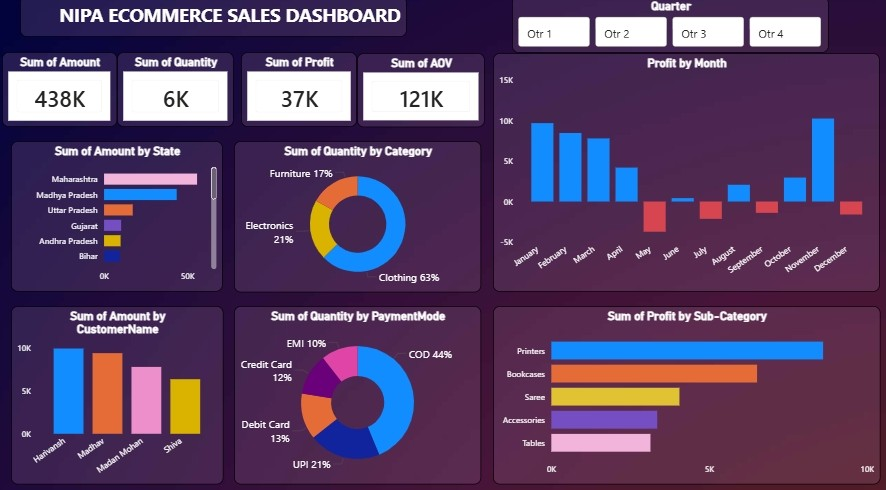

Layout of this report page (visuals, bound fields, positions):
{"tool":"powerbi","page":{"name":"Page 1","canvas":[1280,720],"ordinal":0},"visuals":[{"type":"textbox","box":[31.7,0,557.3,59],"z":0},{"type":"columnChart","title":"Profit by Month","fields":{"Y":["Sum(Details.Profit)"],"Category":["Orders.Order Date.Variation.Date Hierarchy.Month"]},"box":[712.8,82.1,557.3,344.2],"z":1000},{"type":"barChart","fields":{"Category":["Details.Sub-Category"],"Y":["Sum(Details.Profit)"]},"box":[712.2,446.8,557.7,257],"z":2000},{"type":"donutChart","fields":{"Category":["Details.Category"],"Y":["Sum(Details.Quantity)"]},"box":[339.3,208.3,356.1,218.4],"z":3000},{"type":"donutChart","fields":{"Category":["Details.PaymentMode"],"Y":["Sum(Details.Quantity)"]},"box":[339.3,446.8,356.1,257],"z":4000},{"type":"cardVisual","title":"Sum of Amount","fields":{"Data":["Sum(Details.Amount)"]},"box":[5.8,80.6,165.6,128.2],"z":5000},{"type":"cardVisual","title":"Sum of Quantity","fields":{"Data":["Sum(Details.Quantity)"]},"box":[171.4,80.6,168.5,128.2],"z":6000},{"type":"cardVisual","title":"Sum of Profit","fields":{"Data":["Sum(Details.Profit)"]},"box":[349.9,80.6,167,128.2],"z":7000},{"type":"cardVisual","title":"Sum of AOV","fields":{"Data":["Sum(Details.AOV)"]},"box":[528.5,82.1,167,126.7],"z":8000},{"type":"barChart","fields":{"Y":["Sum(Details.Amount)"],"Category":["Orders.State"]},"box":[18.7,208.8,305.3,217.4],"z":9000},{"type":"columnChart","fields":{"Category":["Orders.CustomerName"],"Y":["Sum(Details.Amount)"]},"box":[18.5,446.8,305.7,257],"z":10000},{"type":"advancedSlicerVisual","fields":{"Values":["Orders.Order Date.Variation.Date Hierarchy.Quarter"]},"box":[740.2,0,456.5,82.1],"z":11000}]}

Visuals, with their boxes in screenshot pixels (x1, y1, x2, y2), scaled from the page's 1280x720 canvas onto the 886x490 screenshot:
textbox: [22, 0, 408, 40]
"Profit by Month" columnChart: [493, 56, 879, 290]
barChart - Details.Sub-Category x Sum(Details.Profit): [493, 304, 879, 479]
donutChart - Details.Category x Sum(Details.Quantity): [235, 142, 481, 290]
donutChart - Details.PaymentMode x Sum(Details.Quantity): [235, 304, 481, 479]
"Sum of Amount" cardVisual: [4, 55, 119, 142]
"Sum of Quantity" cardVisual: [119, 55, 235, 142]
"Sum of Profit" cardVisual: [242, 55, 358, 142]
"Sum of AOV" cardVisual: [366, 56, 481, 142]
barChart - Sum(Details.Amount) x Orders.State: [13, 142, 224, 290]
columnChart - Orders.CustomerName x Sum(Details.Amount): [13, 304, 224, 479]
advancedSlicerVisual - Orders.Order Date.Variation.Date Hierarchy.Quarter: [512, 0, 828, 56]
